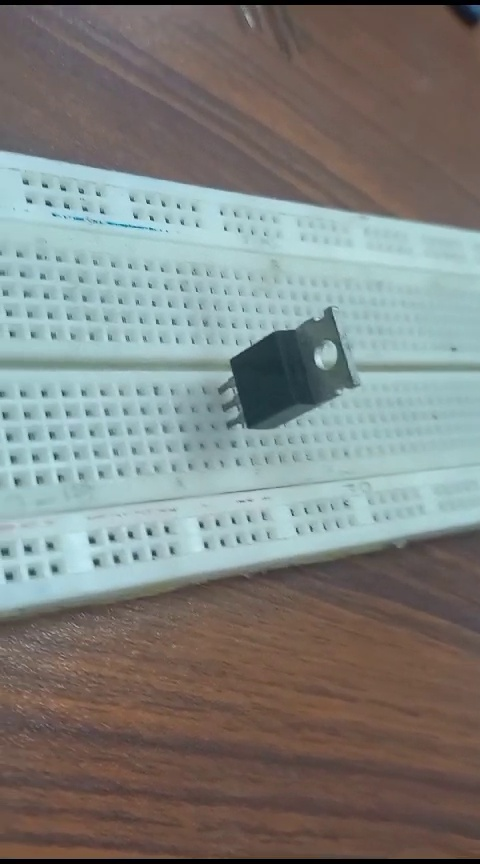voltage regulator: (194, 316, 376, 449)
